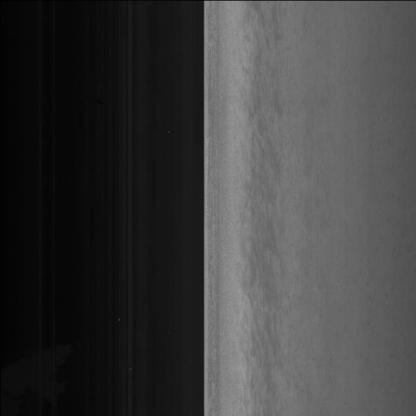silk_spot: (239, 125, 278, 259)
